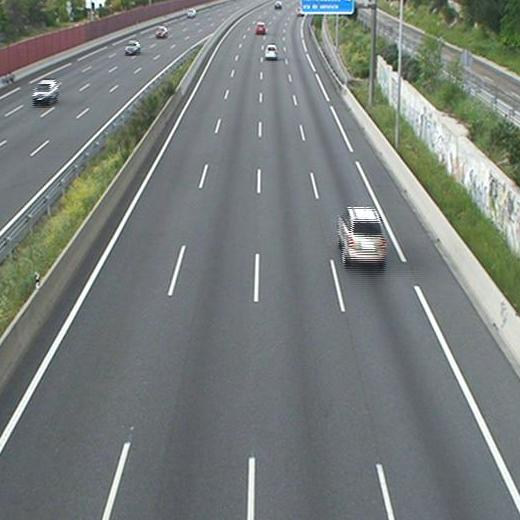car: (337, 206, 387, 269), (265, 44, 278, 59), (255, 22, 267, 35)
